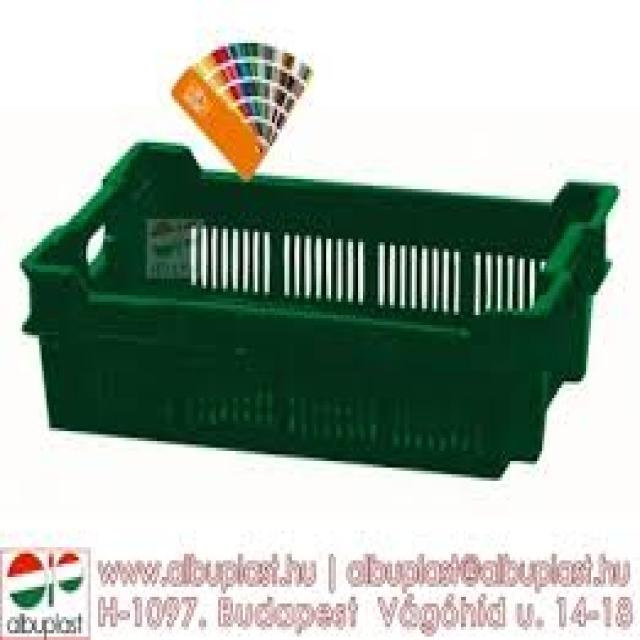basket: (7, 132, 618, 484)
